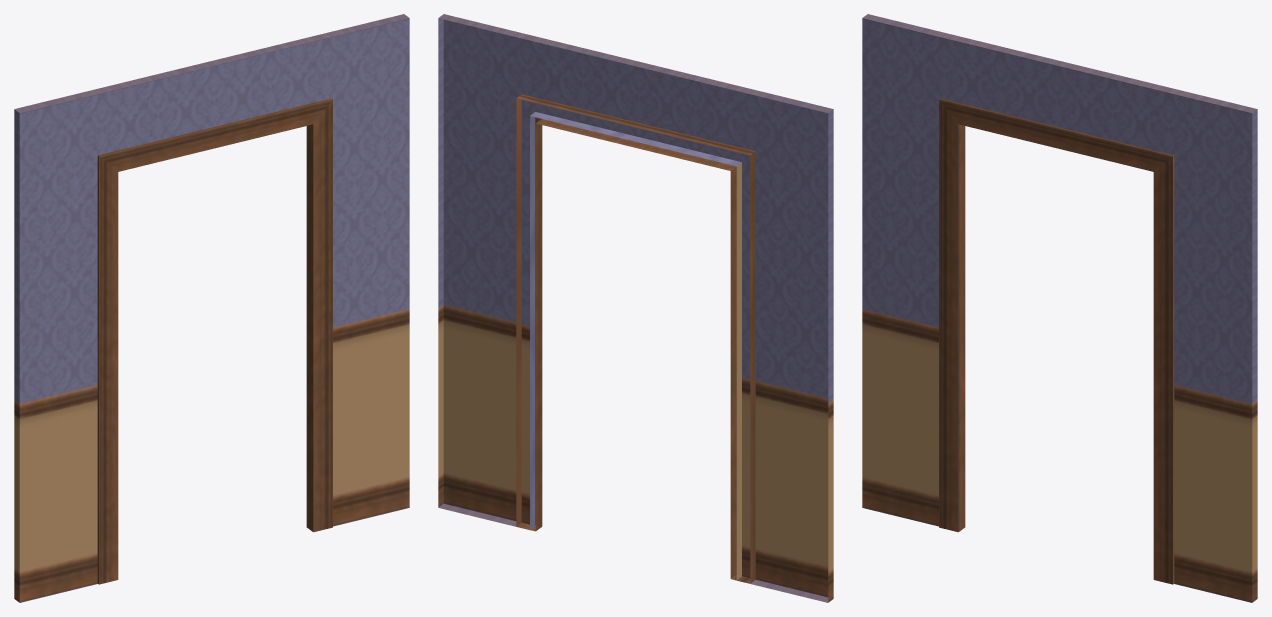
Rendered from doorway0.fbx.
3 renders of one model, left to right at view 1: azimuth 30°, elevation 25°; view 2: azimuth 150°, elevation 25°; view 3: azimuth 330°, elevation 25°, orthographic.
Visible parts, largest first — view 1: doorway0; view 2: doorway0; view 3: doorway0.
Part boxes in pixels (x1,y1,x2,y2): doorway0: [14, 14, 409, 602]; doorway0: [438, 14, 833, 602]; doorway0: [862, 14, 1257, 602].
Size of the model in its own units: 200 by 240 by 6.
